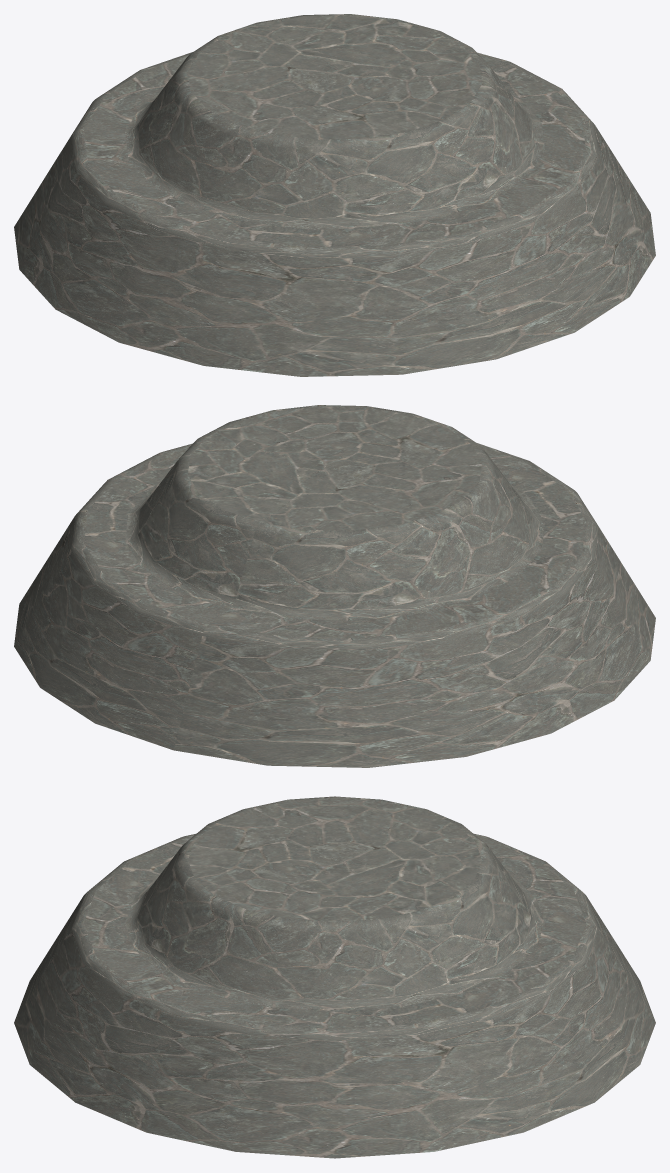
File: StoneBase.fbx
3 renders of one model, top to bottom at view 1: azimuth 30°, elevation 25°; view 2: azimuth 150°, elevation 25°; view 3: azimuth 270°, elevation 25°, orthographic.
Visible parts, largest first — view 1: pCylinder1; view 2: pCylinder1; view 3: pCylinder1.
Part boxes in pixels (left/top/right/bottom): pCylinder1: left=14, top=14, right=655, bottom=376; pCylinder1: left=14, top=405, right=655, bottom=767; pCylinder1: left=14, top=796, right=655, bottom=1158.
Bounding box in the file's own units: 6 × 1.68 × 6.
1 material, 1 textured.
